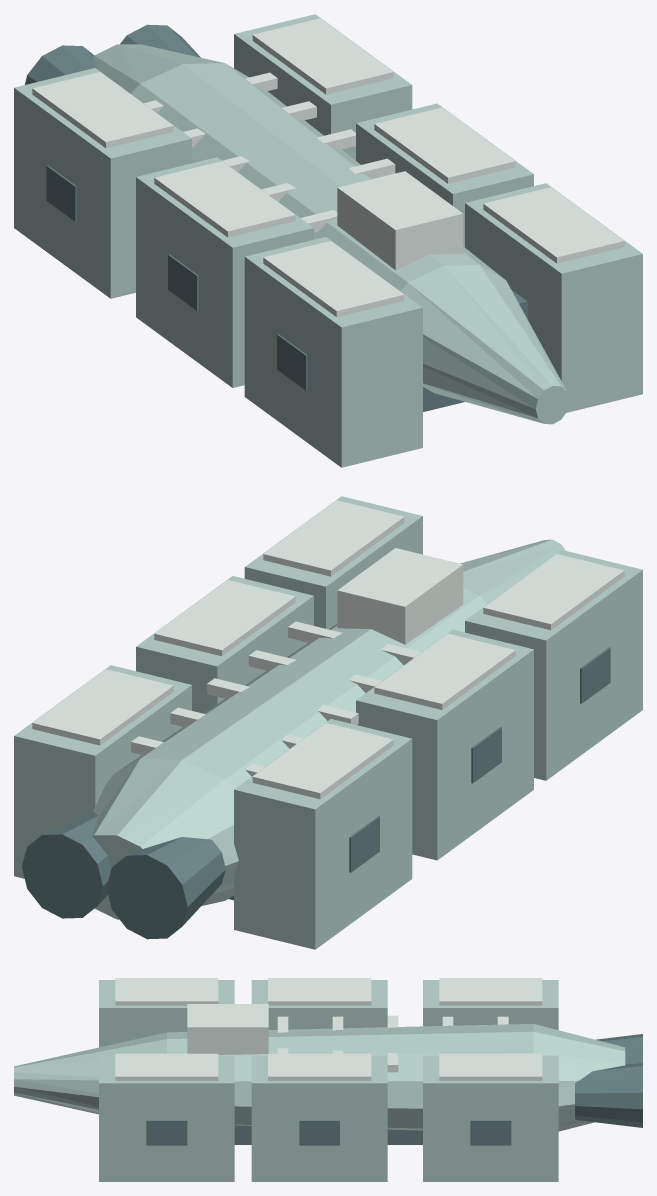
The picture shows the model from 3 angles, top to bottom: view 1: azimuth 30°, elevation 25°; view 2: azimuth 150°, elevation 25°; view 3: azimuth 270°, elevation 25°; orthographic projection. The views are drawn at different scales.
Bounding box in the file's own units: 3.53 × 1.8 × 8.98.
